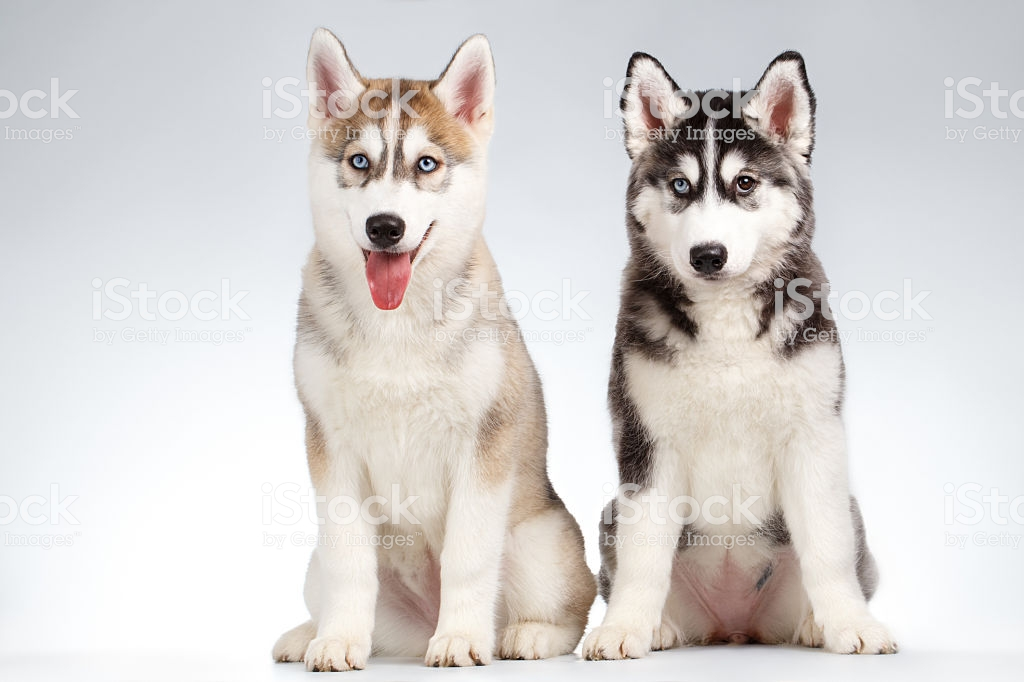husky: (285, 14, 571, 651), (602, 45, 858, 653)
